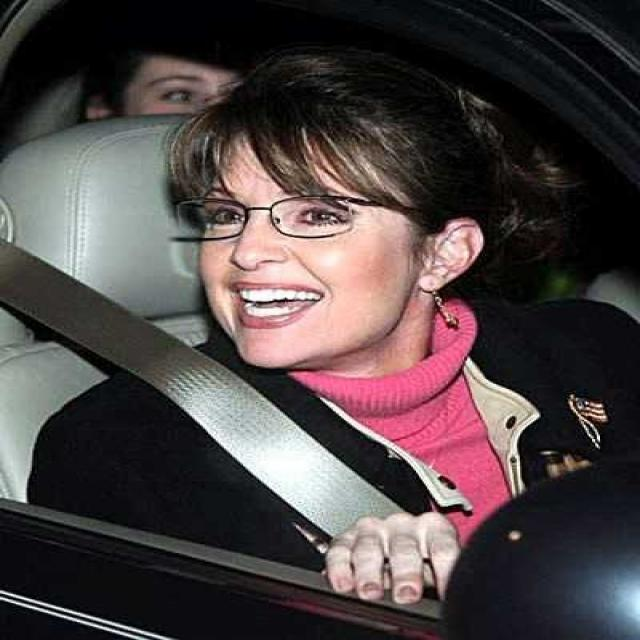seatbelt: (27, 219, 384, 566)
